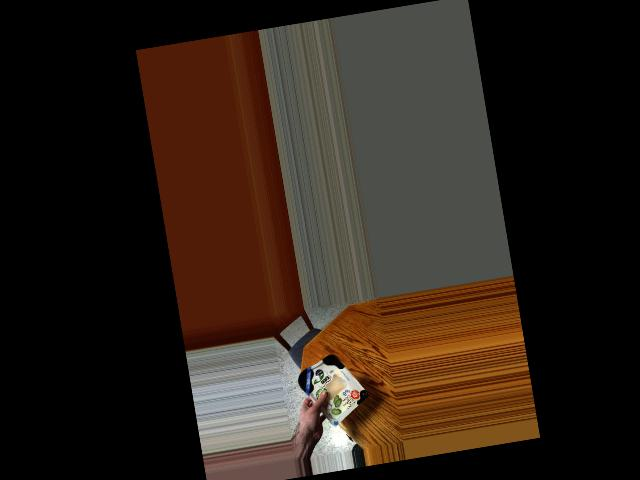cheese: (293, 345, 365, 421)
